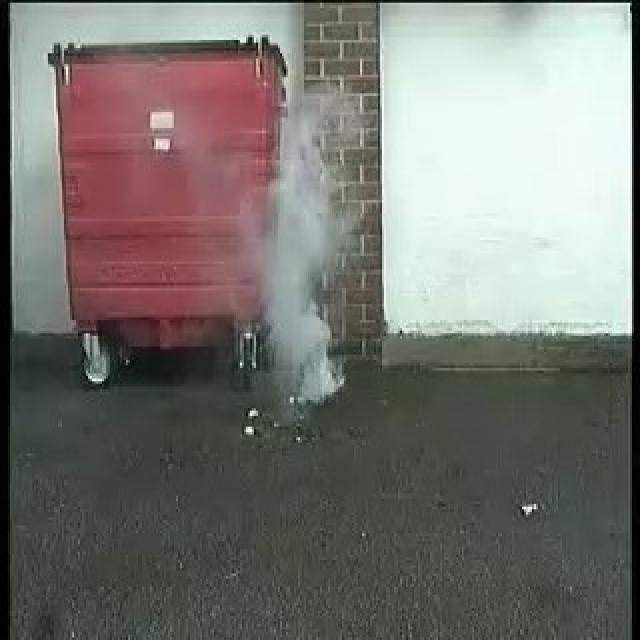smoke: (252, 95, 356, 399)
